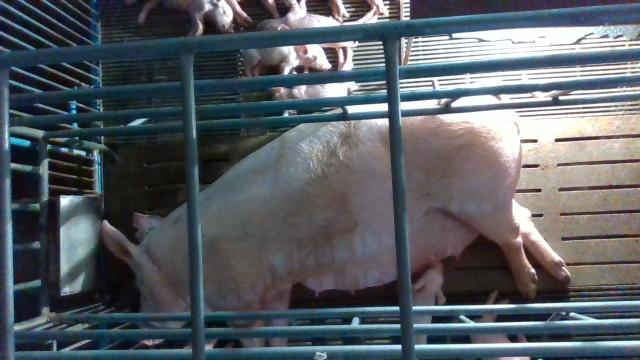piglet: (257, 0, 379, 48), (272, 48, 356, 116), (468, 290, 530, 360), (139, 0, 235, 37), (410, 260, 447, 345), (242, 43, 332, 77)
sow-sleep-lactate: (102, 86, 572, 348)
